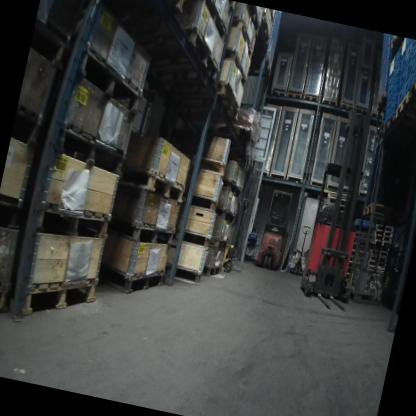forklift: (296, 101, 389, 313), (255, 187, 294, 272)
pallet: (198, 55, 274, 176), (71, 43, 150, 115), (20, 264, 99, 331), (35, 198, 114, 251), (52, 124, 129, 176), (176, 25, 227, 82), (117, 163, 187, 203), (27, 12, 75, 69), (103, 258, 165, 301), (109, 215, 176, 249), (194, 0, 234, 42), (9, 104, 46, 149), (224, 16, 259, 63), (219, 46, 252, 86), (212, 82, 244, 122), (0, 196, 26, 237), (189, 190, 220, 214), (172, 264, 203, 287), (180, 229, 210, 250), (256, 13, 274, 45), (241, 4, 262, 31), (220, 177, 243, 201), (152, 0, 185, 16), (393, 91, 410, 121), (214, 205, 237, 226), (362, 201, 384, 220), (0, 283, 11, 320), (202, 260, 222, 278), (208, 235, 228, 251), (384, 111, 397, 135), (407, 66, 416, 99), (375, 89, 387, 111), (373, 222, 394, 234), (325, 196, 346, 208), (366, 259, 386, 270), (374, 125, 385, 144), (367, 254, 387, 264), (301, 93, 319, 104), (374, 229, 393, 239), (369, 248, 388, 258), (354, 230, 372, 240), (388, 35, 399, 50), (286, 90, 302, 100), (369, 110, 385, 120), (373, 234, 392, 242), (270, 89, 286, 98), (321, 98, 337, 107), (339, 102, 355, 111), (353, 106, 369, 115), (372, 239, 390, 247)
pallet_truck: (221, 196, 250, 274), (289, 224, 312, 276)
